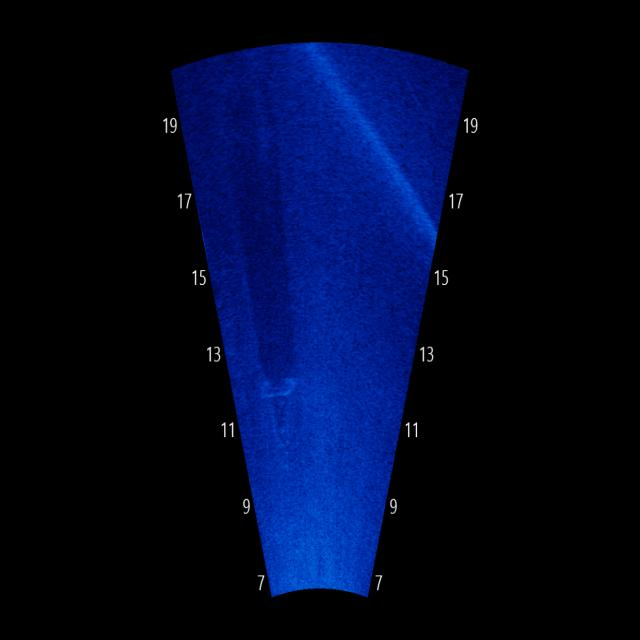triangle: (259, 373, 300, 458)
